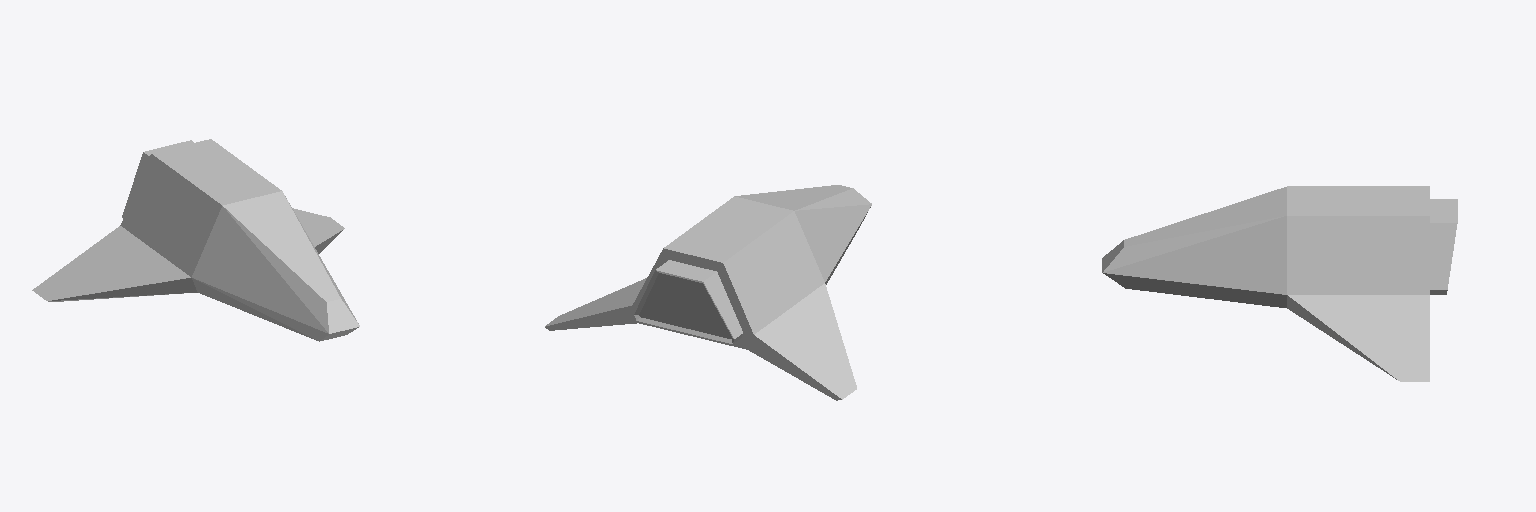
File: Ship.obj
The picture shows the model from 3 angles: view 1: azimuth 30°, elevation 25°; view 2: azimuth 150°, elevation 25°; view 3: azimuth 270°, elevation 25°; orthographic projection.
Parts seen in each view (by area): view 1: Cube_Cube.002; view 2: Cube_Cube.002; view 3: Cube_Cube.002.
Boxes of the visible parts, x1,y1,x2,y2 form: Cube_Cube.002: [32, 139, 359, 341]; Cube_Cube.002: [545, 185, 871, 400]; Cube_Cube.002: [1102, 186, 1457, 381].
Size of the model in its own units: 4.84 by 1.71 by 4.99.